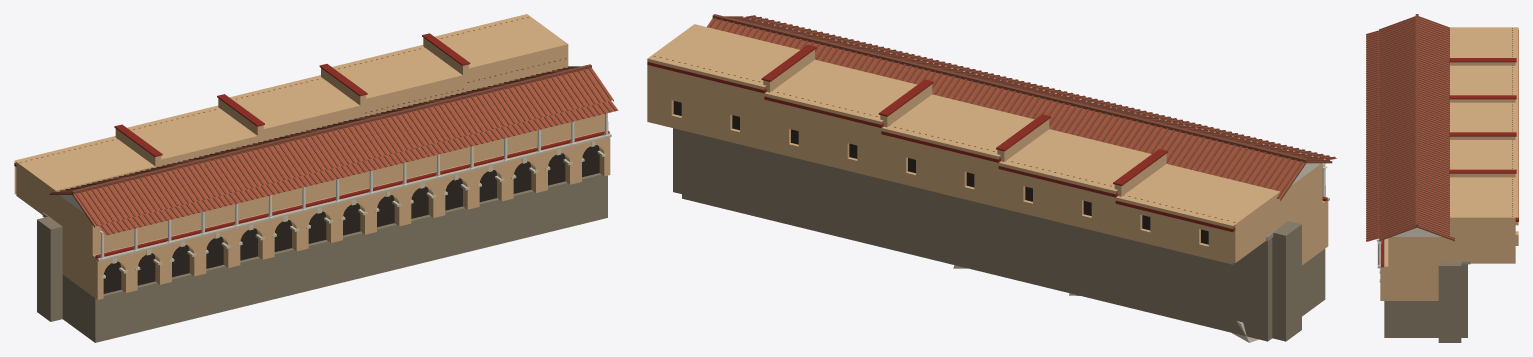
File: rome_pal_block_b.glb
The picture shows the model from 3 angles, left to right: view 1: azimuth 30°, elevation 25°; view 2: azimuth 150°, elevation 25°; view 3: azimuth 270°, elevation 25°; orthographic projection. The views are drawn at different scales.
Parts seen in each view (by area): view 1: rome_pal_block_b; view 2: rome_pal_block_b; view 3: rome_pal_block_b.
Part boxes in pixels (x1,y1,x2,y2): rome_pal_block_b: (14,14,618,342); rome_pal_block_b: (647,14,1336,342); rome_pal_block_b: (1366,14,1518,342).
Bounding box in the file's own units: 62.8 × 17.55 × 18.63.
